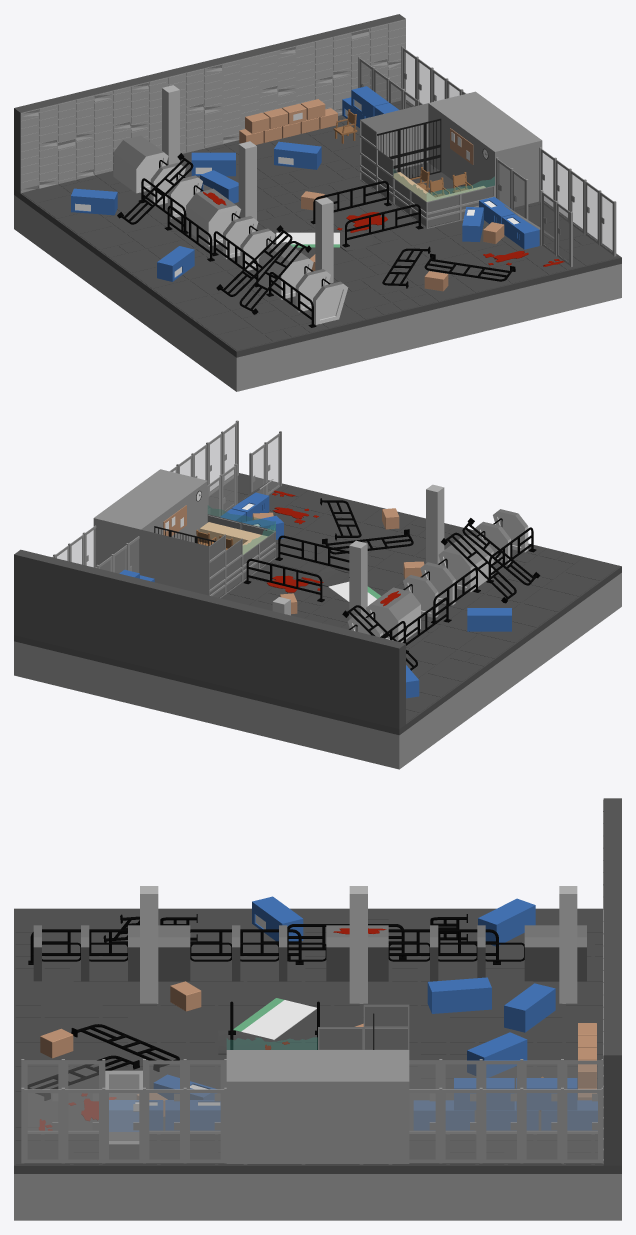
Rendered from 01 Zombie_15.FBX.
3 views of the same model, one above another, from view 1: azimuth 30°, elevation 25°; view 2: azimuth 150°, elevation 25°; view 3: azimuth 270°, elevation 25° (orthographic). The views are drawn at different scales.
Parts seen in each view (by area): view 1: Base, Wall, Office, Gate_Pass, Glass_Gate, Boxes, Piller_3, Piller_2, Piller_1, Box072, Box075, Box074 (+18 smaller); view 2: Base, Wall, Office, Gate_Pass, Glass_Gate, Piller_3, Piller_2, Box076, Table, Rectangle002, Rectangle018, Line079 (+8 smaller); view 3: Base, Glass_Gate, Office, Gate_Pass, Wall, Piller_1, Piller_2, Piller_3, Box073, Hoarding, Box074, Box075 (+19 smaller).
Part boxes in pixels (x1,y1,x2,y2): Base: (14,100,621,391); Wall: (14,14,405,193); Office: (360,91,542,228); Gate_Pass: (113,135,348,324); Glass_Gate: (358,46,616,266); Boxes: (239,99,337,144); Piller_3: (315,197,333,283); Piller_2: (238,141,256,220); Piller_1: (162,85,179,165); Box072: (274,141,321,169); Box075: (71,188,117,215); Box074: (191,152,235,176); Base: (14,473,621,769); Wall: (14,549,405,729); Office: (93,469,275,598); Gate_Pass: (347,509,528,642); Glass_Gate: (52,420,281,573); Piller_3: (426,484,444,565); Piller_2: (349,540,367,619); Box076: (467,608,511,631); Table: (199,522,267,554); Rectangle002: (243,558,324,602); Rectangle018: (441,532,516,603); Line079: (462,518,540,585); Base: (14,908,621,1220); Glass_Gate: (21,1059,602,1163); Office: (226,1004,409,1164); Gate_Pass: (33,925,586,981); Wall: (603,798,621,1165); Piller_1: (559,886,577,1003); Piller_2: (349,886,367,1003); Piller_3: (140,886,158,1003); Box073: (427,977,491,1013); Hoarding: (233,998,316,1039); Box074: (504,983,555,1032); Box075: (478,898,535,946).
Bounding box in the file's own units: 10000 × 3000 × 10000.
